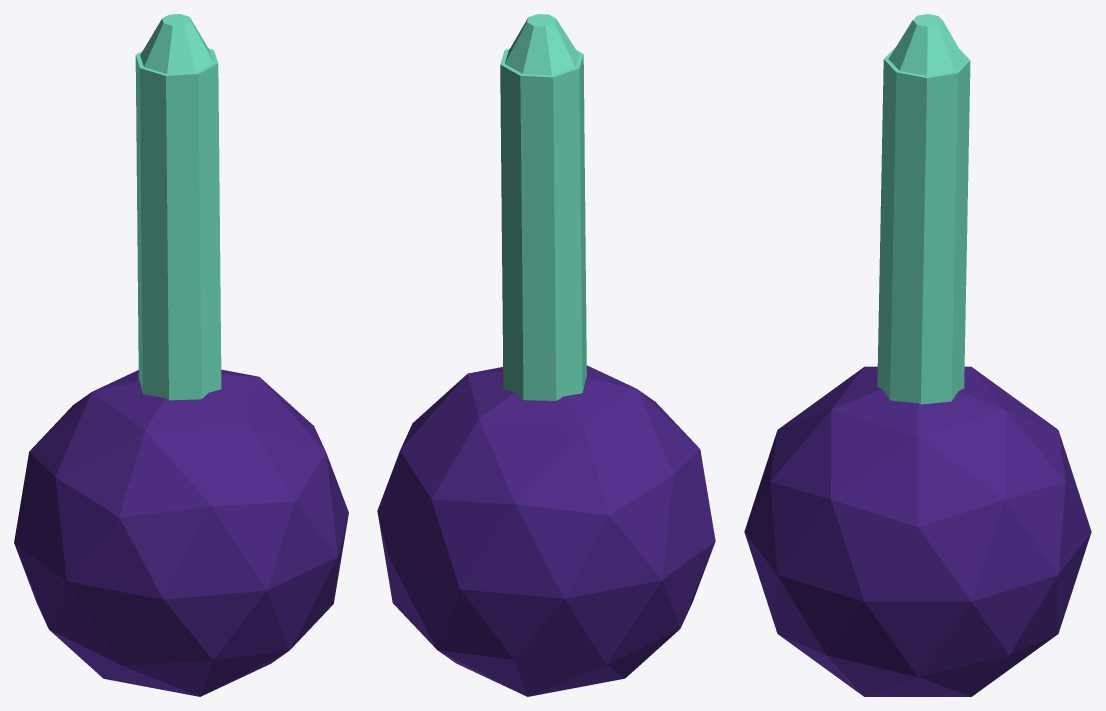
The model's file is AMP.glb.
3 views of the same model, side by side, from view 1: azimuth 30°, elevation 25°; view 2: azimuth 150°, elevation 25°; view 3: azimuth 270°, elevation 25° (orthographic).
Visible parts, largest first — view 1: AMP, adenine; view 2: AMP, adenine; view 3: AMP, adenine.
Part boxes in pixels (x1,y1,x2,y2): AMP: [14, 369, 348, 696]; adenine: [135, 14, 221, 400]; AMP: [377, 365, 715, 696]; adenine: [500, 14, 586, 400]; AMP: [744, 366, 1091, 696]; adenine: [877, 14, 970, 404].
Bounding box in the file's own units: 0.634 × 1.42 × 0.6667.
